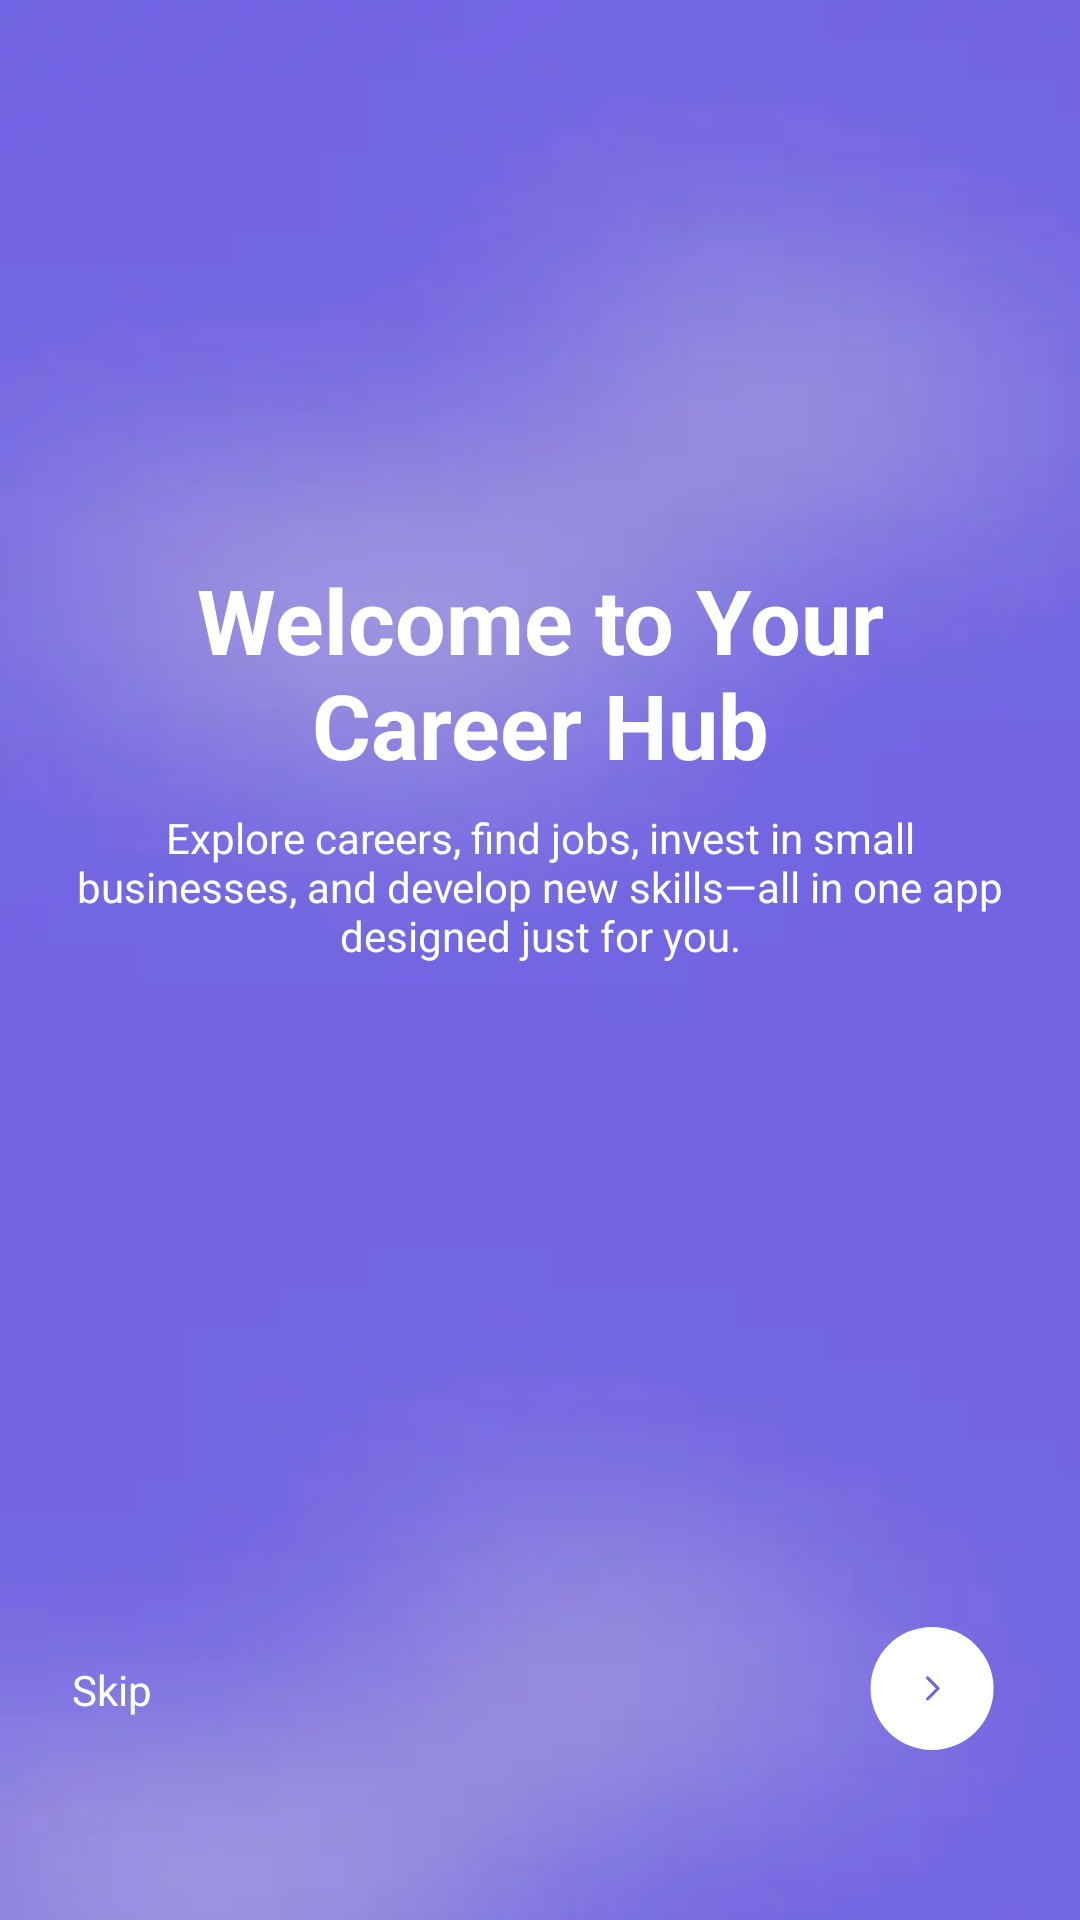

Point at icon controls on the screen. Image size 1080*1920, points as [x,y].
next: [932,1688]
